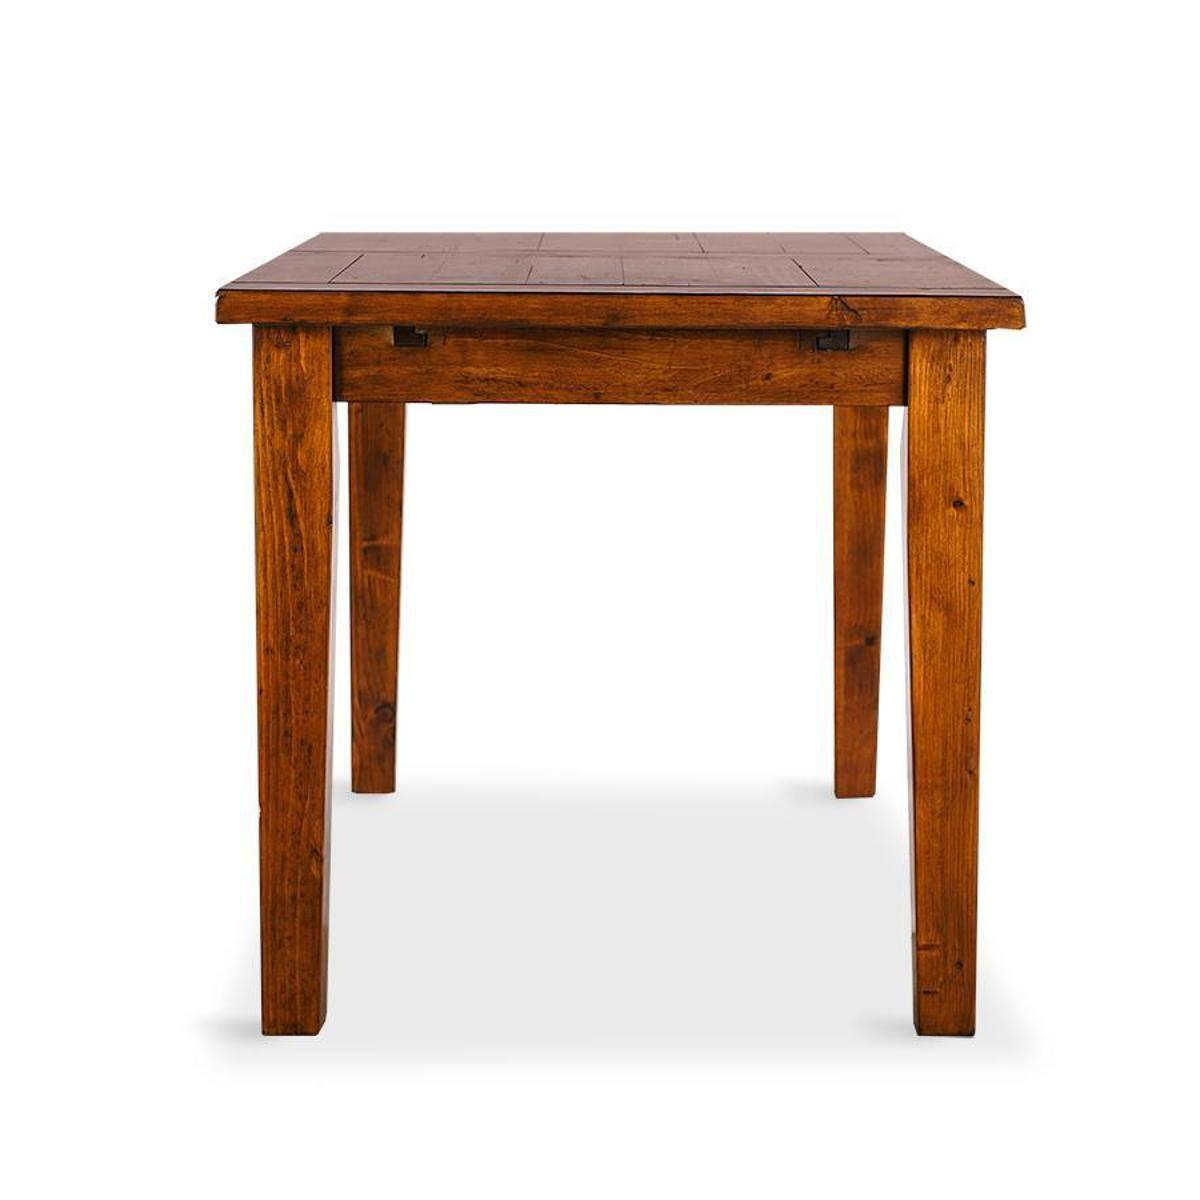Table: (194, 192, 1096, 1130)
